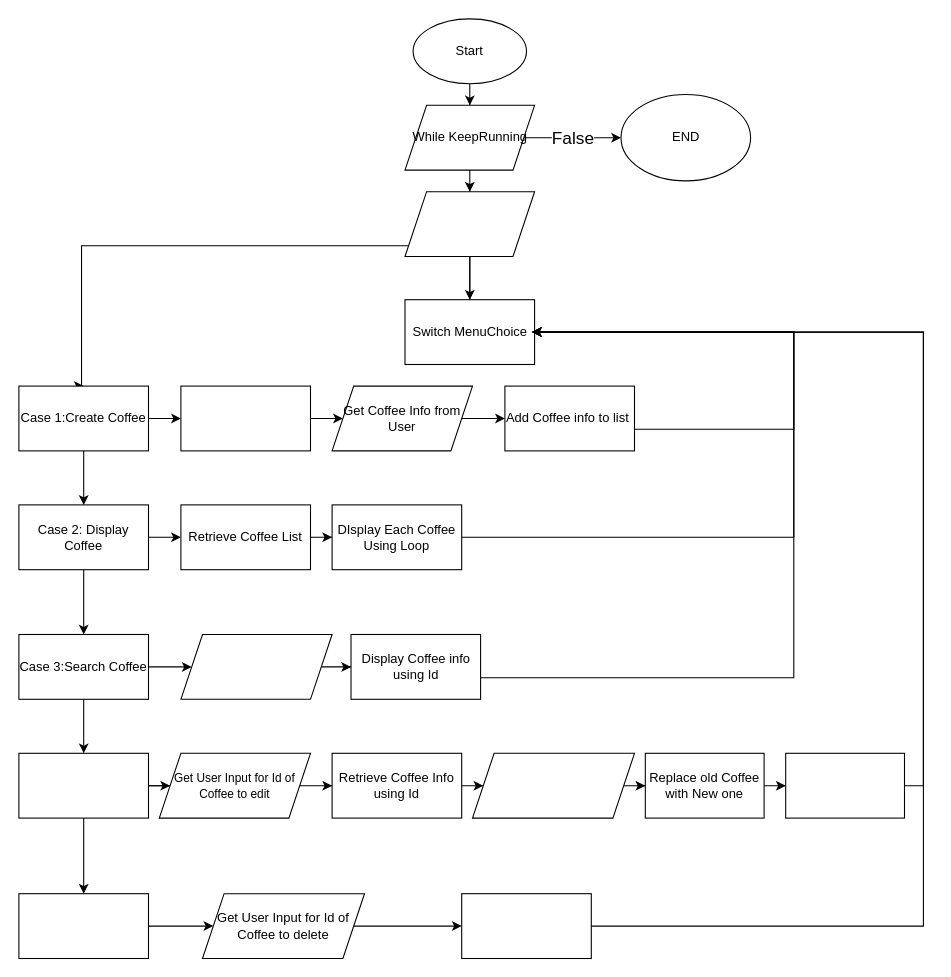
Image size: 951x977. Some labels were removed from this diagram. The centre of each missing label's shape, as x and y in pixels:
Case 4: Edit Coffee: (x=83, y=785)
Case 5: Delete Coffee: (x=83, y=926)
Change coffee to null using Id to delete: (x=526, y=926)
Create Coffee: (x=245, y=418)
Display New Coffee Information: (x=845, y=785)
Get new Coffee Info: (x=552, y=785)
Get User input for Id of Coffee: (x=256, y=666)
Int MenuChoice: (x=469, y=223)
